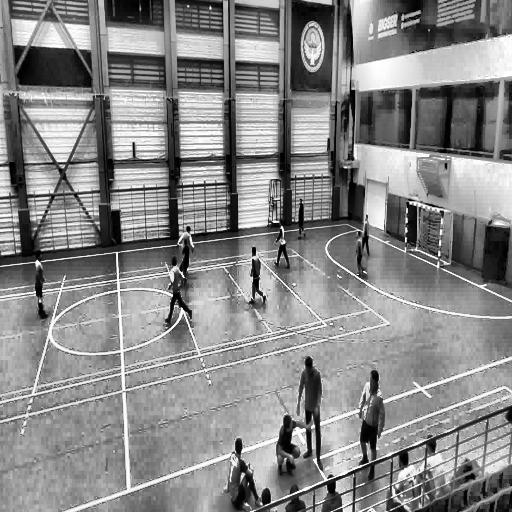player: (358, 369, 384, 479), (297, 355, 322, 462), (225, 436, 259, 512), (165, 257, 193, 324), (34, 248, 50, 320), (248, 244, 266, 306), (176, 222, 195, 276), (273, 219, 291, 270), (354, 228, 368, 283), (180, 238, 191, 286), (362, 215, 370, 258), (297, 199, 305, 240)
